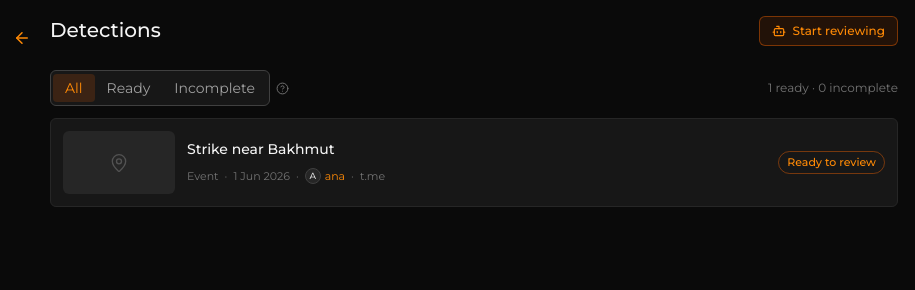
Test: DetectionsPage queue filter › explains the one-word options behind the `?` beside the bar
The width and height of the screenshot is (915, 290).
Focus the button named "What does this filter select?": (282, 88) x1=276 y1=82 x2=289 y2=94
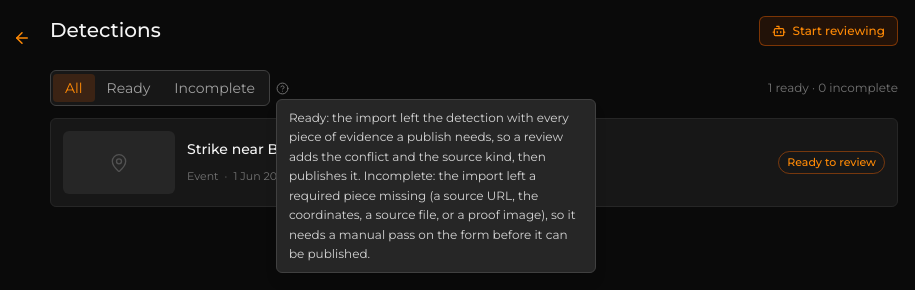
Expected: the tooltip shows "conflict and the source kind", x1=289 y1=110 x2=576 y2=261
Expected: the tooltip shows "a manual pass on the form", x1=289 y1=110 x2=576 y2=261
